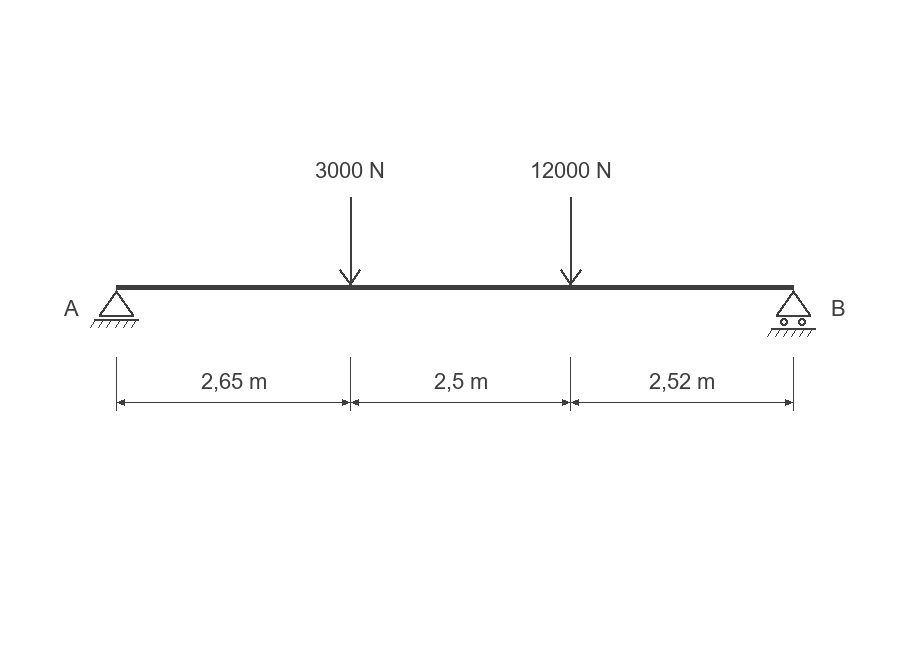pin_support: (90, 290, 139, 328)
point_load: (339, 197, 361, 286), (560, 197, 582, 286)
roller_support: (767, 290, 816, 337)
